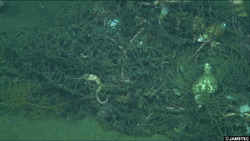fishing net: (1, 1, 249, 137)
